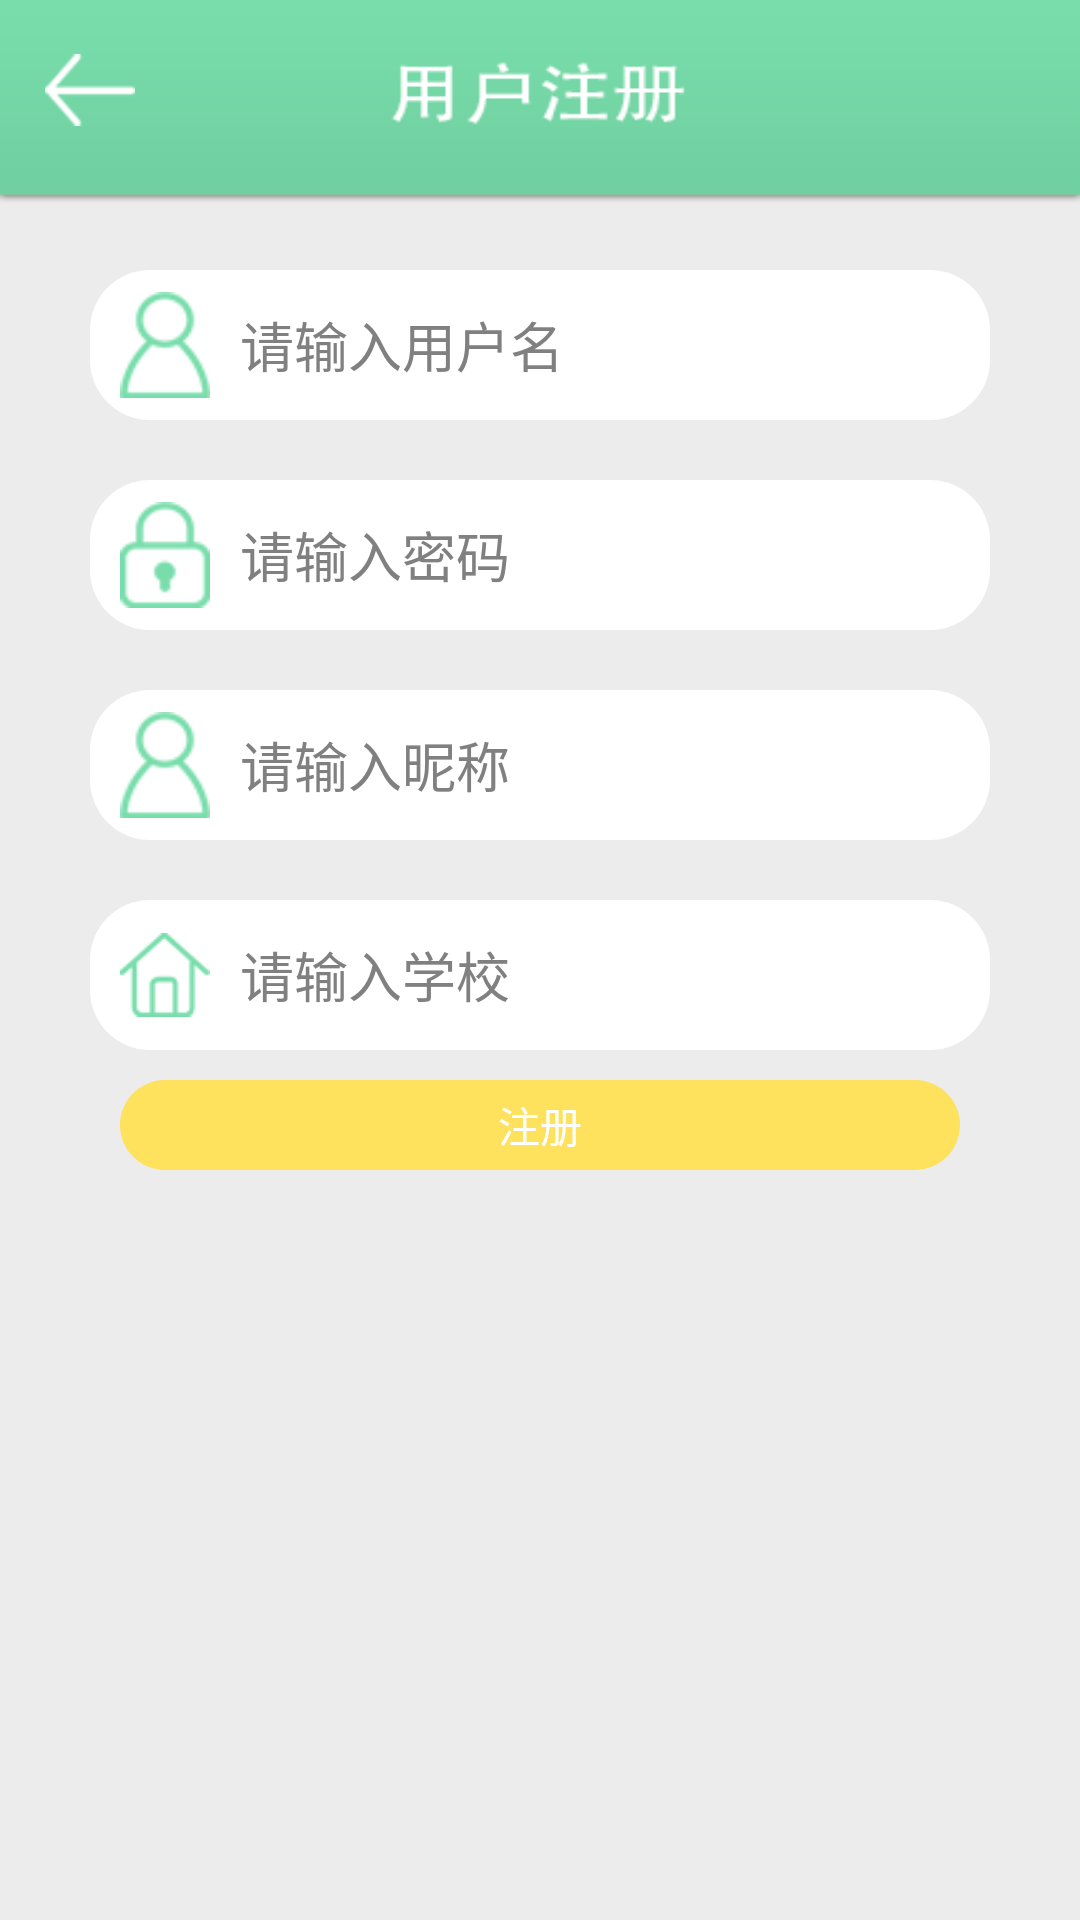

Screen size 1080 × 1920. Icon name, then its center in pixels as point (x, y):
reg back: point (90, 90)
reg pwd: point (165, 555)
reg username: point (165, 345), point (165, 765)
